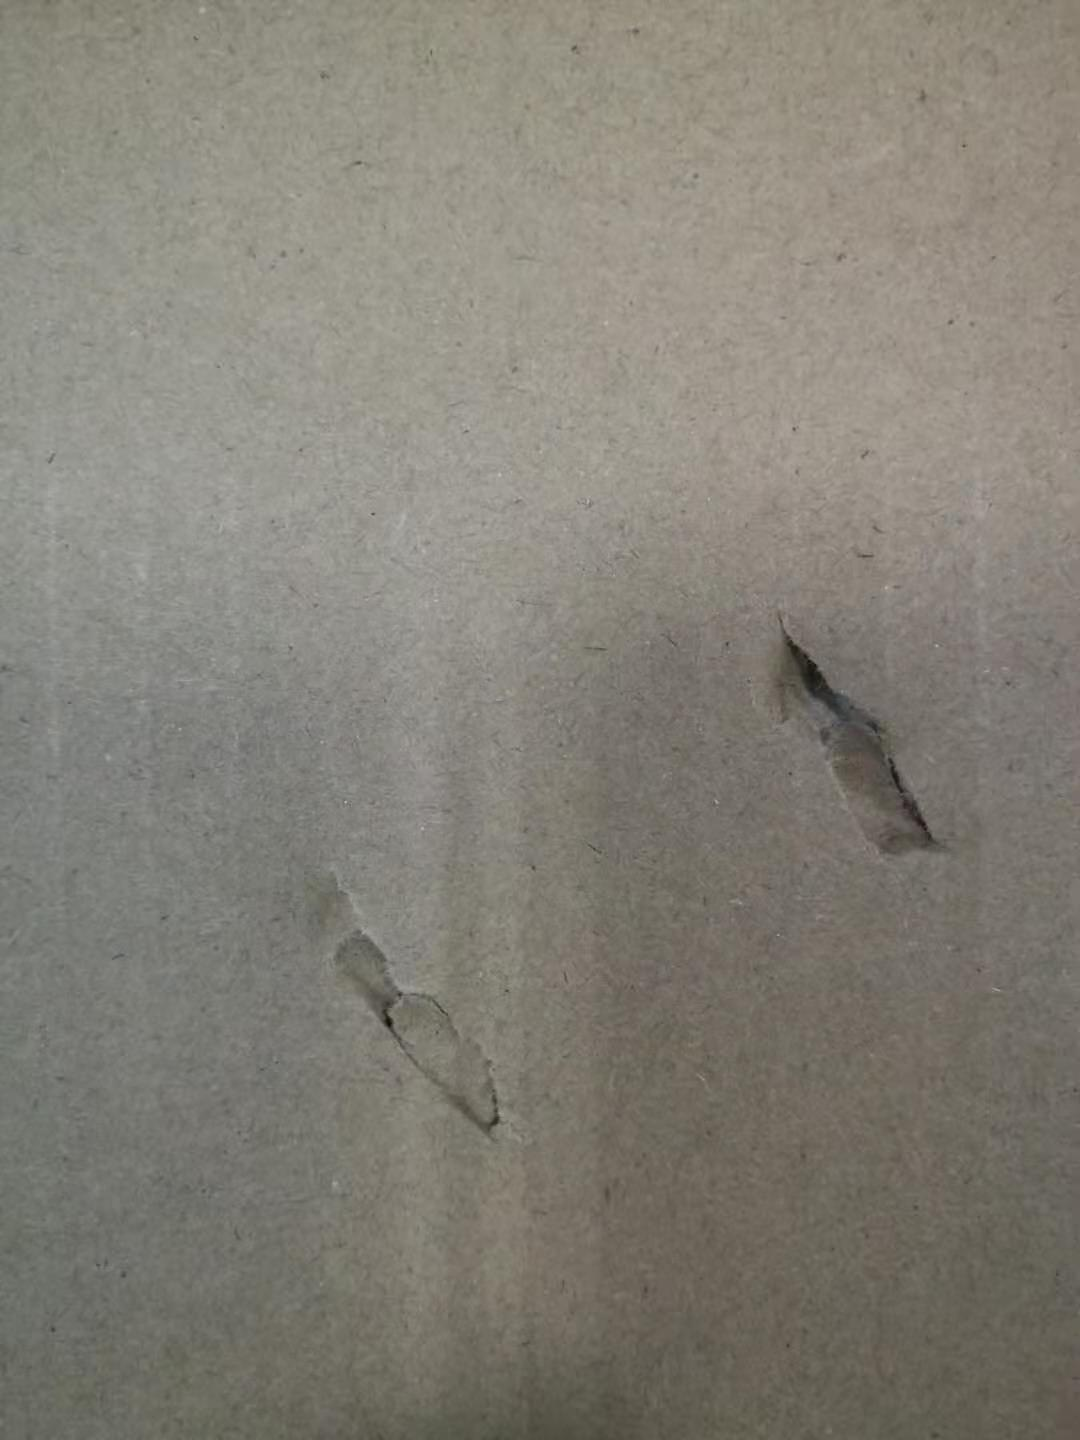defect: (272, 825, 565, 1167), (697, 564, 992, 896)
